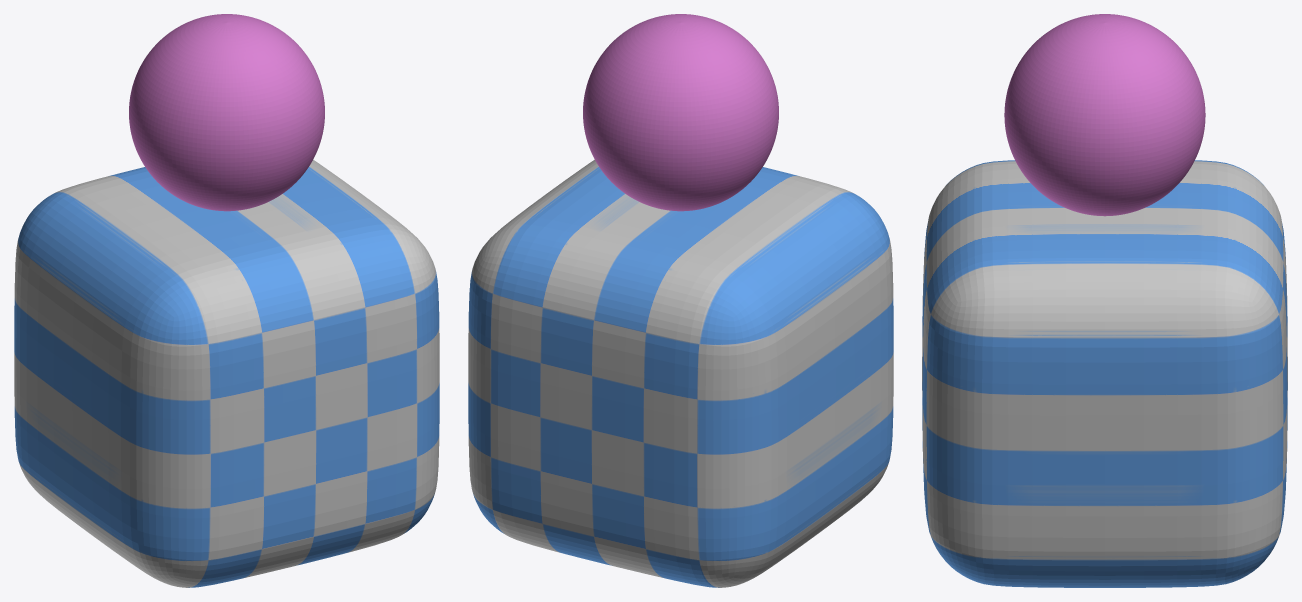
The model's file is BOD3_BMC1_BCC13_BPT4_FRC0_HEA0_HMC10_HCC0_HPT0_ELT0_ERT0_ELL0_ERL0_AP0_AAL0_AAR0_BEK0.fbx.
The picture shows the model from 3 angles, left to right: view 1: azimuth 30°, elevation 25°; view 2: azimuth 150°, elevation 25°; view 3: azimuth 270°, elevation 25°; orthographic projection. The views are drawn at different scales.
Visible parts, largest first — view 1: Body, Head; view 2: Body, Head; view 3: Body, Head.
Part boxes in pixels (x1,y1,x2,y2): Body: (14, 159, 439, 587); Head: (129, 14, 324, 211); Body: (468, 159, 893, 587); Head: (583, 14, 778, 211); Body: (922, 160, 1287, 587); Head: (1004, 14, 1205, 216).
Bounding box in the file's own units: 89.79 × 140 × 89.79.
2 materials, 2 textured.
